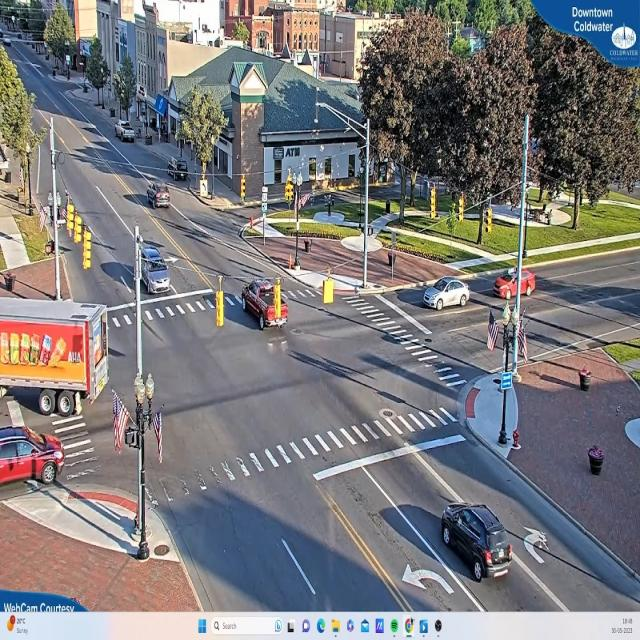car: (439, 505, 516, 583), (0, 424, 62, 497), (241, 281, 288, 330), (423, 276, 470, 310), (138, 253, 172, 298), (497, 269, 536, 301), (146, 180, 172, 212), (115, 122, 136, 143)
truck: (0, 294, 109, 431)
